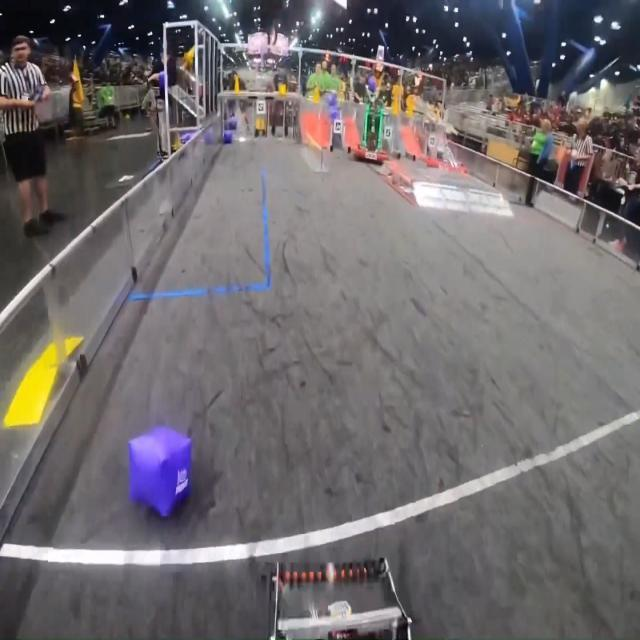robot: (354, 104, 391, 166), (426, 130, 468, 176)
